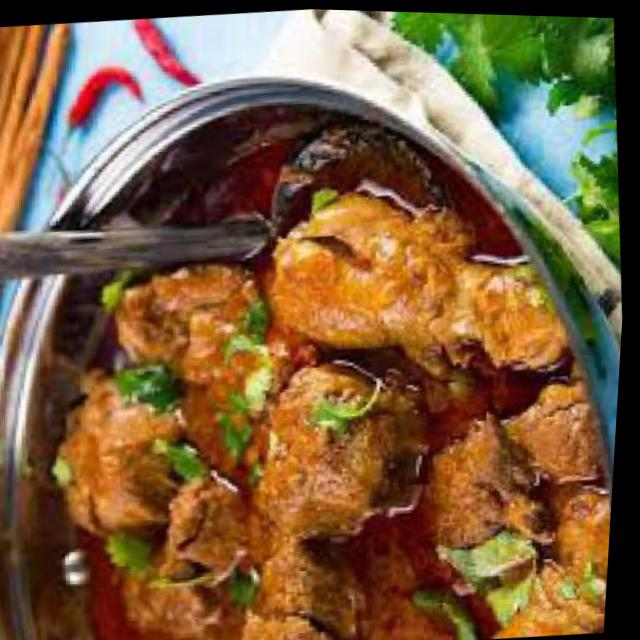CHICKEN CURRY: (53, 115, 609, 640)
